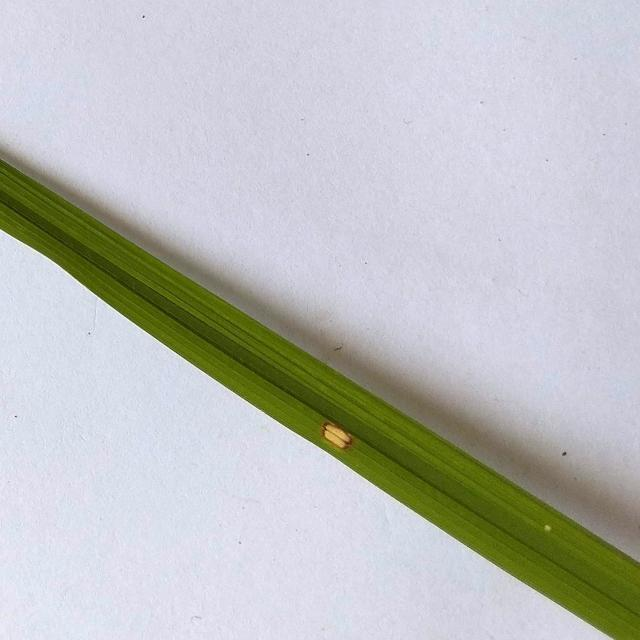Blast: (316, 420, 361, 450)
